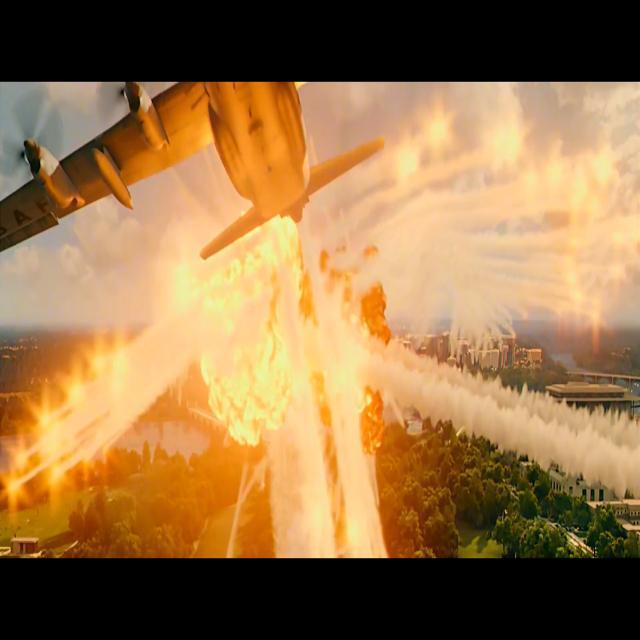fire: (194, 198, 392, 466)
